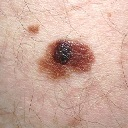Melanoma: (48, 38, 92, 73)
